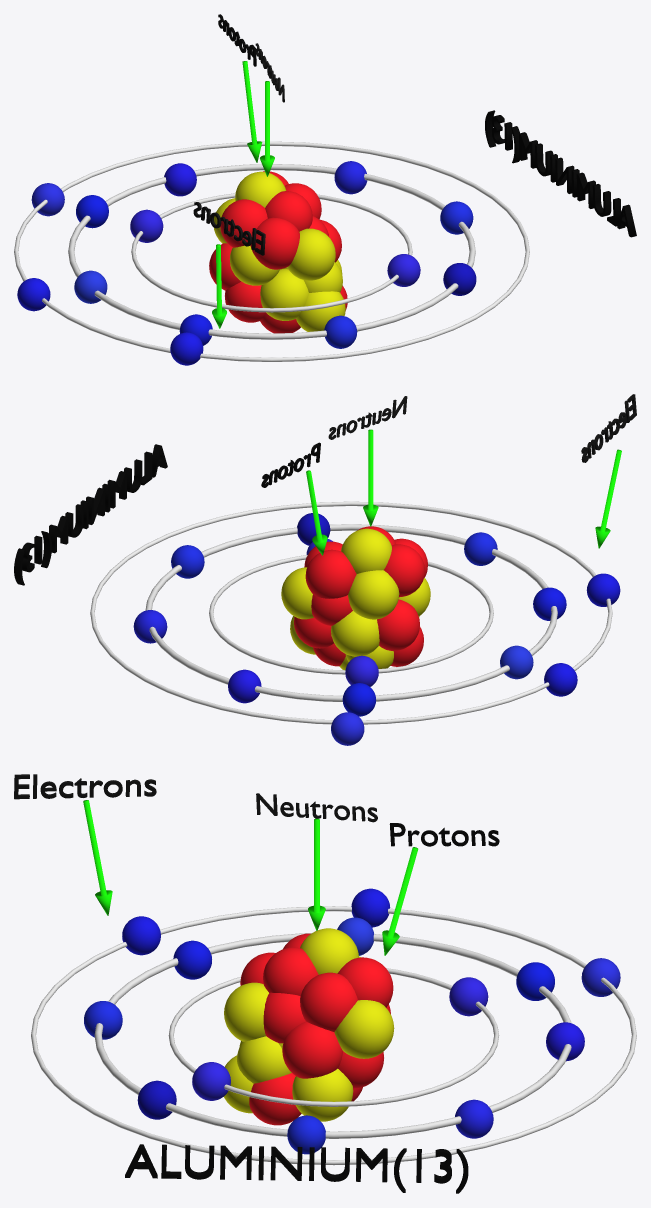
Rendered from Aluminium Atomic Model .gltf.
3 views of the same model, one above another, from view 1: azimuth 30°, elevation 25°; view 2: azimuth 150°, elevation 25°; view 3: azimuth 270°, elevation 25° (orthographic). The views are drawn at different scales.
Parts seen in each view (by area): view 1: Torus.004, Torus.001, Text.003, Torus, Sphere.022, Sphere.037, Sphere.026, Sphere.038, Sphere.033, Sphere.025, Sphere.021, Sphere.023 (+23 smaller); view 2: Torus.004, Torus.001, Text.003, Torus, Sphere.019, Sphere.032, Sphere.023, Sphere.015, Sphere.039, Sphere.038, Sphere.020, Text (+21 smaller); view 3: Torus.004, Torus.001, Text.003, Torus, Sphere.034, Sphere.020, Sphere.029, Sphere.016, Sphere.022, Sphere.033, Sphere.023, Sphere.017 (+25 smaller).
Boxes of the visible parts, bbox=[...] form: Torus.004: bbox=[14, 141, 529, 361]; Torus.001: bbox=[68, 164, 475, 339]; Text.003: bbox=[485, 110, 636, 237]; Torus: bbox=[131, 193, 412, 312]; Sphere.022: bbox=[287, 228, 335, 280]; Sphere.037: bbox=[250, 217, 299, 269]; Sphere.026: bbox=[260, 269, 308, 320]; Sphere.038: bbox=[220, 199, 267, 247]; Sphere.033: bbox=[265, 191, 312, 231]; Sphere.025: bbox=[296, 291, 345, 331]; Sphere.021: bbox=[229, 245, 279, 285]; Sphere.023: bbox=[235, 171, 286, 207]; Torus.004: bbox=[90, 501, 612, 724]; Torus.001: bbox=[145, 524, 557, 701]; Text.003: bbox=[14, 444, 167, 585]; Torus: bbox=[209, 555, 493, 674]; Sphere.019: bbox=[348, 570, 399, 619]; Sphere.032: bbox=[305, 549, 356, 598]; Sphere.023: bbox=[341, 528, 391, 573]; Sphere.015: bbox=[331, 611, 379, 656]; Sphere.039: bbox=[377, 599, 419, 650]; Sphere.038: bbox=[384, 544, 424, 597]; Sphere.020: bbox=[281, 567, 313, 619]; Text: bbox=[581, 394, 636, 462]; Torus.004: bbox=[31, 906, 636, 1165]; Torus.001: bbox=[94, 933, 571, 1138]; Text.003: bbox=[125, 1144, 468, 1193]; Torus: bbox=[168, 968, 499, 1106]; Sphere.034: bbox=[282, 1021, 342, 1078]; Sphere.020: bbox=[334, 1000, 394, 1058]; Sphere.029: bbox=[300, 972, 357, 1031]; Sphere.016: bbox=[292, 1068, 353, 1121]; Sphere.022: bbox=[224, 982, 268, 1041]; Sphere.033: bbox=[263, 947, 318, 995]; Sphere.023: bbox=[300, 928, 358, 974]; Sphere.017: bbox=[237, 1036, 291, 1083].
Bounding box in the file's own units: 7.71 × 3.73 × 6.9.
